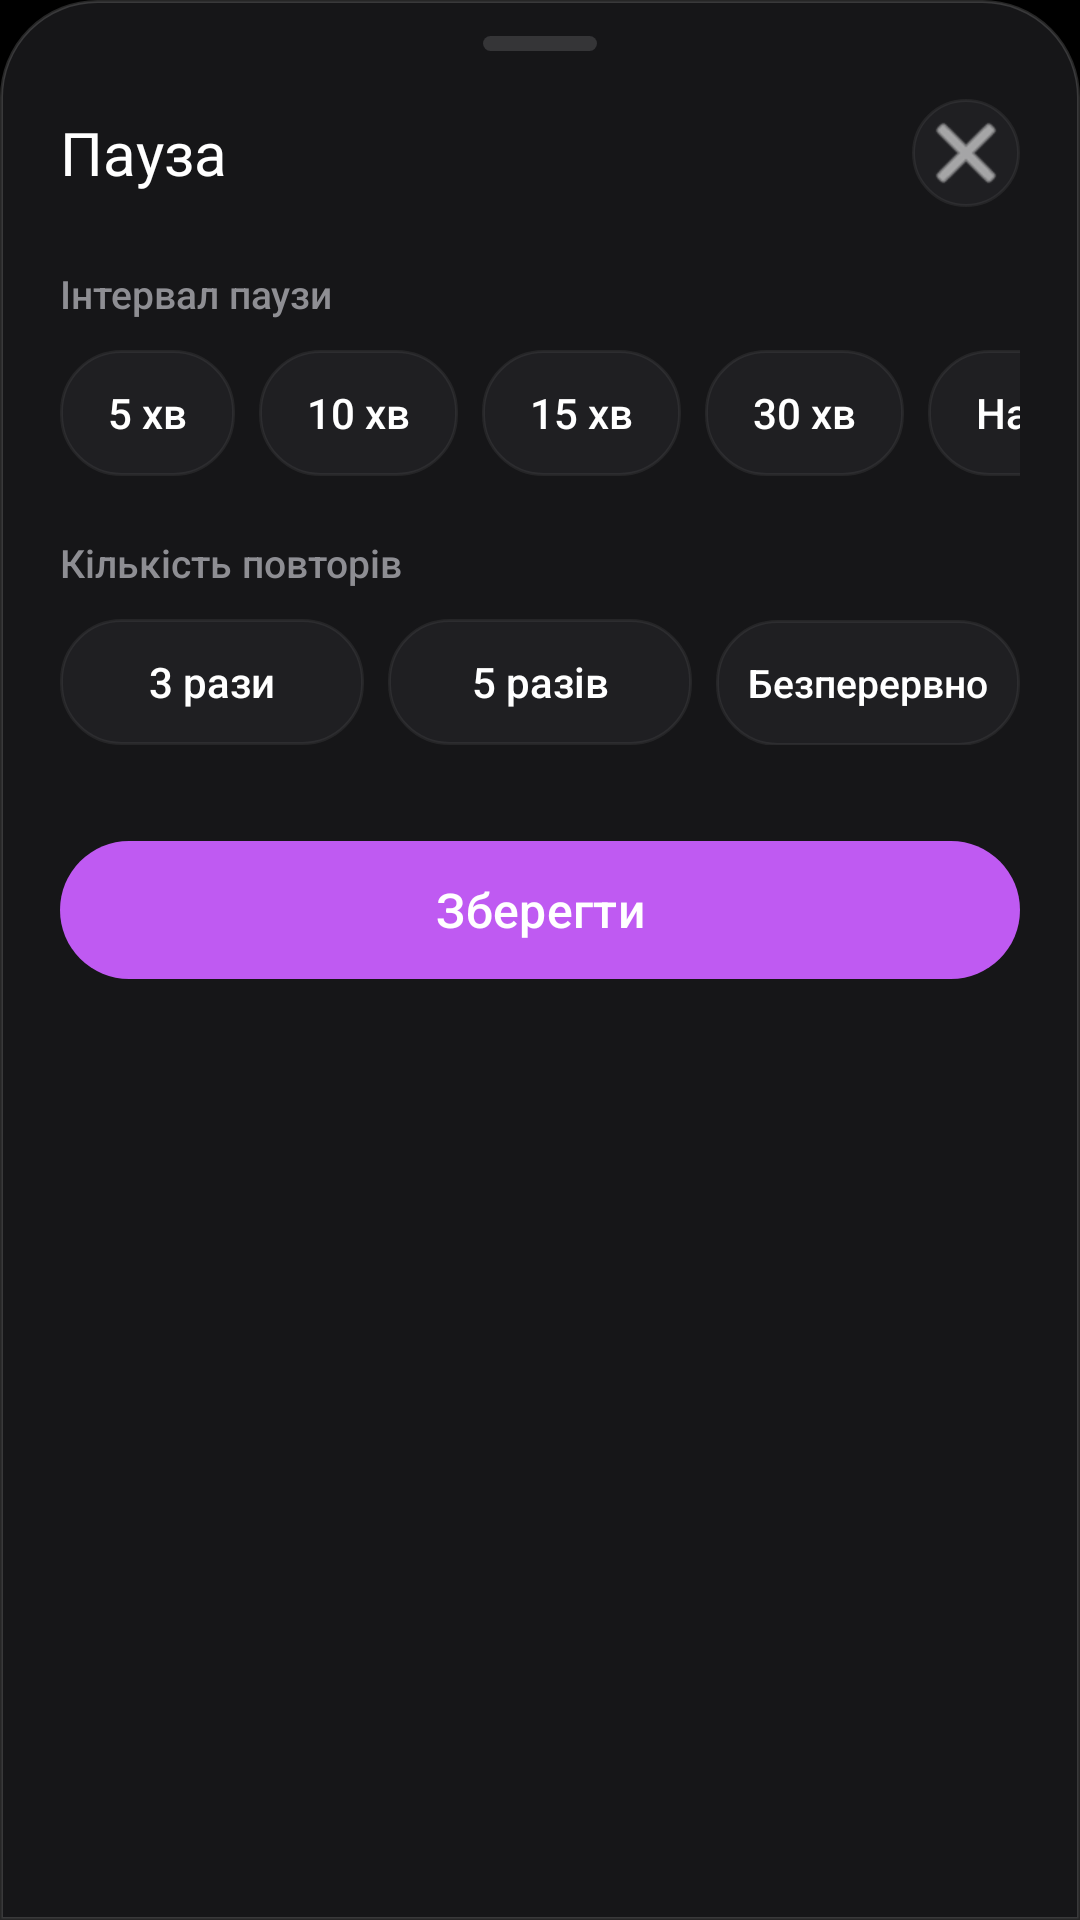

Icons on this 1080x1920 Android screen, each with the point to tap as (x=x, y=y):
close clear cancel: (x=966, y=153)
